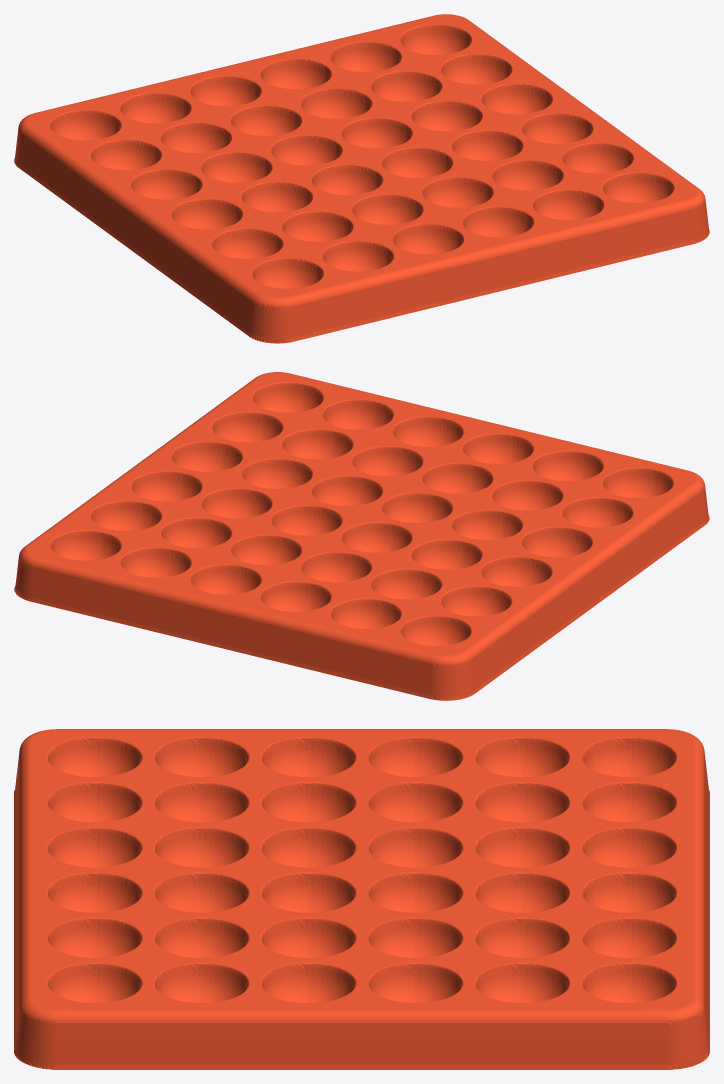
The model's file is mold.glb.
3 renders of one model, top to bottom at view 1: azimuth 30°, elevation 25°; view 2: azimuth 150°, elevation 25°; view 3: azimuth 270°, elevation 25°, orthographic. The views are drawn at different scales.
Parts seen in each view (by area): view 1: geometry_0; view 2: geometry_0; view 3: geometry_0.
Boxes of the visible parts, x1,y1,x2,y2 form: geometry_0: [14, 14, 709, 343]; geometry_0: [14, 372, 709, 700]; geometry_0: [14, 729, 709, 1069].
Bounding box in the file's own units: 0.1447 × 0.0121 × 0.1447.
